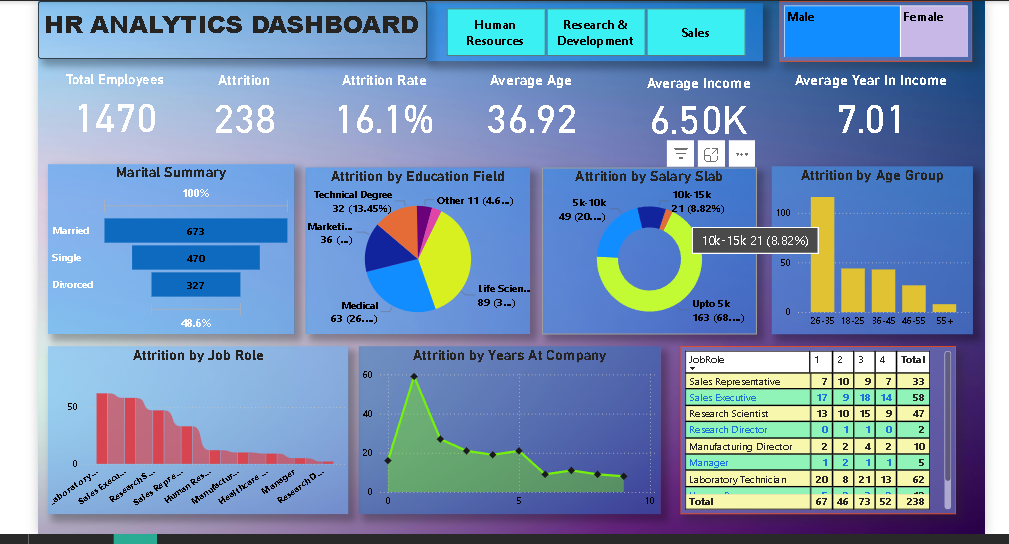

The dashboard page shown, as its layout file describes it:
{"tool":"powerbi","page":{"name":"Page 1","canvas":[1280,720],"ordinal":0},"visuals":[{"type":"textbox","box":[0,0,526.1,78.8],"z":0},{"type":"card","title":"Total Employees","fields":{"Values":["Count(HR_Analytics.EmpID)"]},"box":[26.7,95,153.3,91.7],"z":1000},{"type":"card","title":"Attrition","fields":{"Values":["Sum(HR_Analytics.Attrition Count)"]},"box":[195,96.7,166.7,90],"z":2000},{"type":"card","title":"Attrition Rate","fields":{"Values":["HR_Analytics.Attrition Rate"]},"box":[386.7,96.7,161.7,90],"z":3000},{"type":"card","title":"Average Age","fields":{"Values":["Avg(HR_Analytics.Age)"]},"box":[593.3,96.7,148.3,90],"z":4000},{"type":"card","title":"Average Income","fields":{"Values":["Avg(HR_Analytics.MonthlyIncome)"]},"box":[815,98.3,156.7,88.3],"z":5000},{"type":"card","title":"Average Year In Income","fields":{"Values":["Avg(HR_Analytics.YearsAtCompany)"]},"box":[1011.7,96.7,230,90],"z":6000},{"type":"funnel","title":"Marital Summary","fields":{"Category":["HR_Analytics.MaritalStatus"],"Y":["Count(HR_Analytics.EmpID)"]},"box":[13.3,220,333.3,230],"z":7000},{"type":"pieChart","title":" Attrition by Education Field","fields":{"Category":["HR_Analytics.EducationField"],"Y":["Sum(HR_Analytics.Attrition Count)"]},"box":[361.7,225,303.3,225],"z":8000},{"type":"donutChart","title":"Attrition by Salary Slab","fields":{"Category":["HR_Analytics.SalarySlab"],"Y":["Sum(HR_Analytics.Attrition Count)"]},"box":[681.7,225,290,225],"z":9000},{"type":"columnChart","title":"Attrition by Age Group","fields":{"Category":["HR_Analytics.AgeGroup"],"Y":["Sum(HR_Analytics.Attrition Count)"]},"box":[991.7,223.3,271.7,226.7],"z":10000},{"type":"ribbonChart","title":"Attrition by Job Role","fields":{"Category":["HR_Analytics.JobRole"],"Y":["Sum(HR_Analytics.Attrition Count)"]},"box":[13.3,466.7,406.7,226.7],"z":11000},{"type":"areaChart","title":"Attrition by Years At Company","fields":{"Y":["Sum(HR_Analytics.Attrition Count)"],"Category":["HR_Analytics.YearsAtCompany"]},"box":[433.3,466.7,408.3,226.7],"z":12000},{"type":"pivotTable","fields":{"Rows":["HR_Analytics.JobRole"],"Columns":["HR_Analytics.JobSatisfaction"],"Values":["Sum(HR_Analytics.Attrition Count)"]},"box":[868.3,466.7,371.7,226.7],"z":13000},{"type":"treemap","fields":{"Group":["HR_Analytics.Gender"],"Values":["Sum(HR_Analytics.Attrition Count)"]},"box":[1003.1,0,260,82.2],"z":14000},{"type":"slicer","fields":{"Values":["HR_Analytics.Department"]},"box":[526.7,3.3,453.3,78.3],"z":15000}]}

Visuals, with their boxes on the page's 1280x720 design canvas (x1, y1, x2, y2). These are canvas units, not pixel positions in the 1009x544 screenshot, which may show the page scaled, cropped or inside an application window:
textbox: crop(0, 0, 526, 79)
"Total Employees" card: crop(27, 95, 180, 187)
"Attrition" card: crop(195, 97, 362, 187)
"Attrition Rate" card: crop(387, 97, 548, 187)
"Average Age" card: crop(593, 97, 742, 187)
"Average Income" card: crop(815, 98, 972, 187)
"Average Year In Income" card: crop(1012, 97, 1242, 187)
"Marital Summary" funnel: crop(13, 220, 347, 450)
" Attrition by Education Field" pieChart: crop(362, 225, 665, 450)
"Attrition by Salary Slab" donutChart: crop(682, 225, 972, 450)
"Attrition by Age Group" columnChart: crop(992, 223, 1263, 450)
"Attrition by Job Role" ribbonChart: crop(13, 467, 420, 693)
"Attrition by Years At Company" areaChart: crop(433, 467, 842, 693)
pivotTable - HR_Analytics.JobRole x HR_Analytics.JobSatisfaction: crop(868, 467, 1240, 693)
treemap - HR_Analytics.Gender x Sum(HR_Analytics.Attrition Count): crop(1003, 0, 1263, 82)
slicer - HR_Analytics.Department: crop(527, 3, 980, 82)
